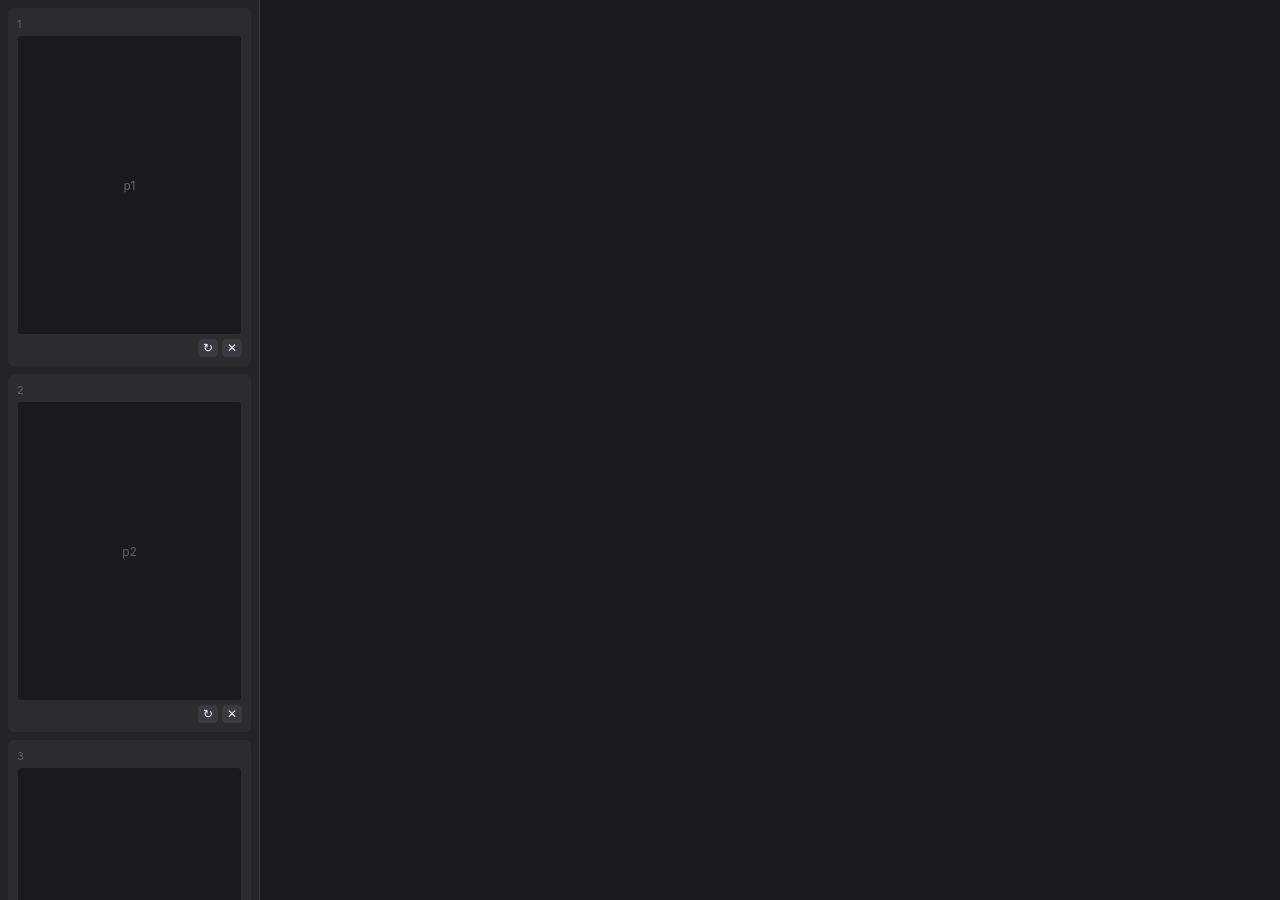
Test: ThumbnailPanel › selection (PR-C, 2026-09-15) › shows the extract action bar with a count once anything is selected
Expected: the text "selected" is not shown
Click the list item named "Page 1" at (130, 187), box x1=8 y1=8 x2=251 y2=366
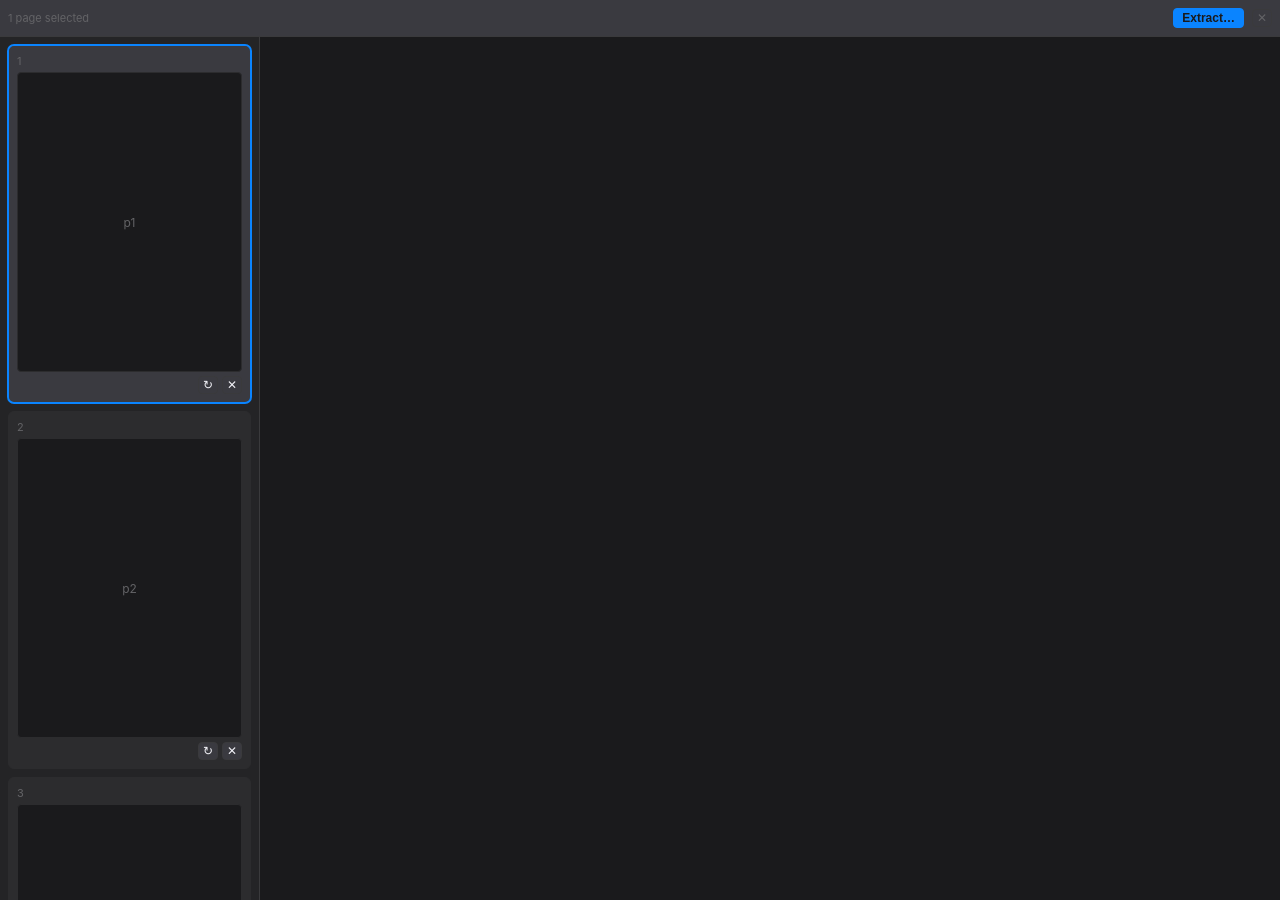
Click the list item named "Page 2" at (130, 590), box x1=8 y1=411 x2=251 y2=769
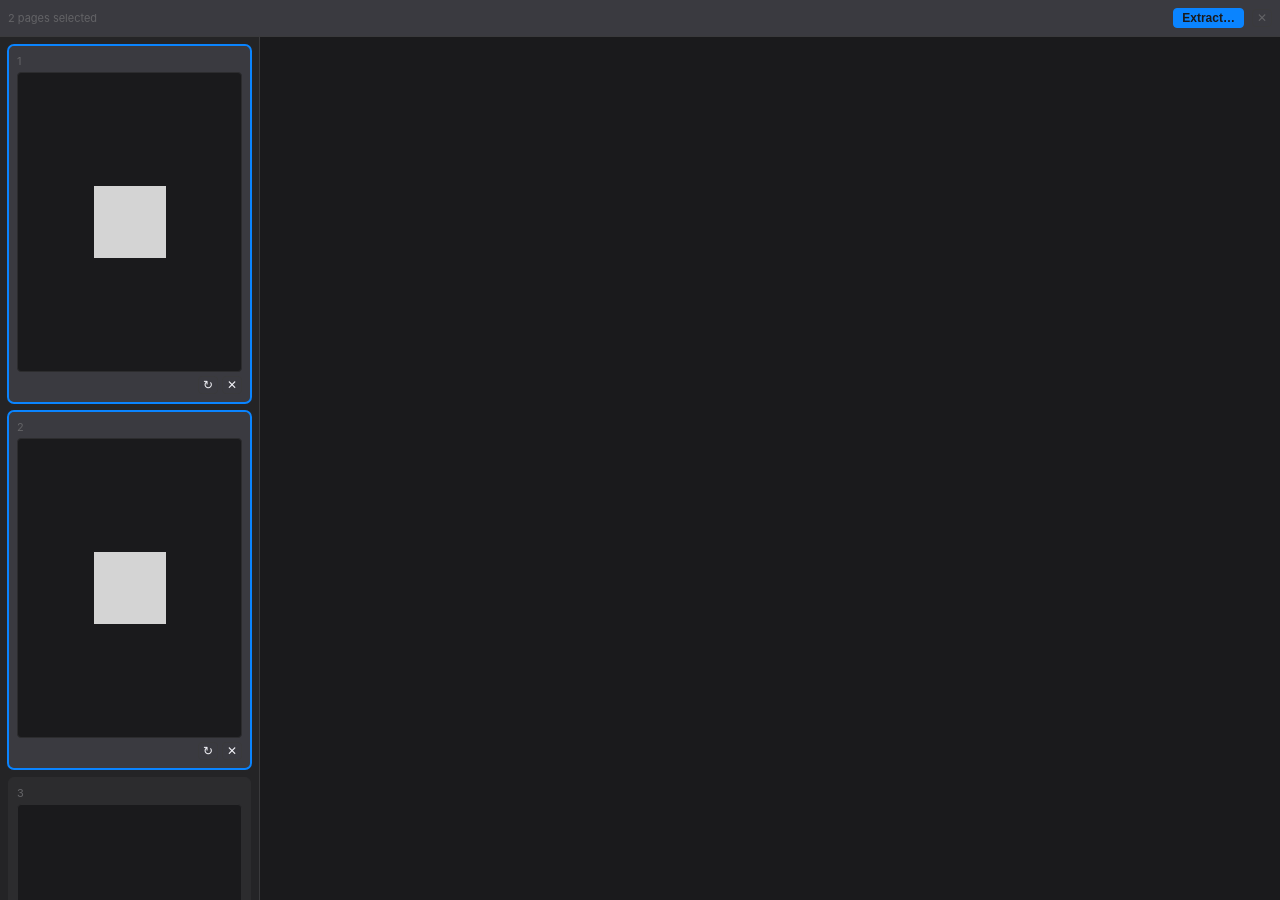
Result: the text "2 pages selected" is shown at x1=8 y1=11 x2=97 y2=25
